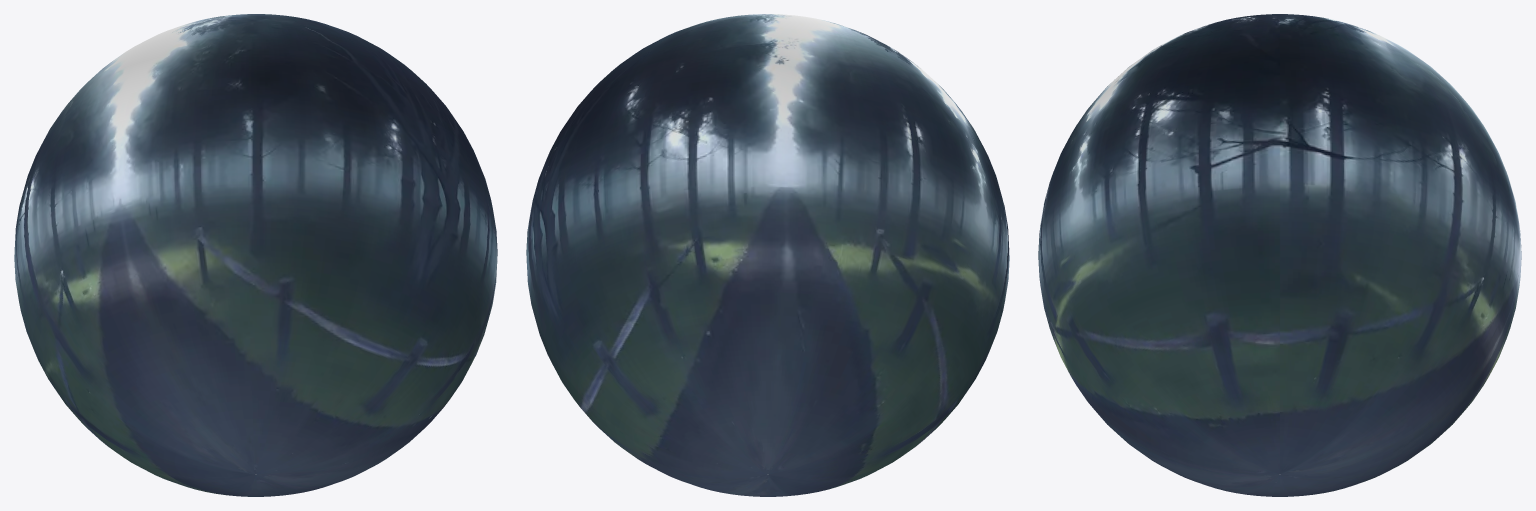
The model's file is free_-_skybox_uncanny_forest.glb.
3 renders of one model, left to right at view 1: azimuth 30°, elevation 25°; view 2: azimuth 150°, elevation 25°; view 3: azimuth 270°, elevation 25°, orthographic.
Parts seen in each view (by area): view 1: Sphere__0; view 2: Sphere__0; view 3: Sphere__0.
Part boxes in pixels (x1=…): Sphere__0: x1=14, y1=14, x2=497, y2=496; Sphere__0: x1=526, y1=14, x2=1009, y2=496; Sphere__0: x1=1038, y1=14, x2=1521, y2=496.
Bounding box in the file's own units: 1000 × 1000 × 1000.
1 material, 1 textured.
